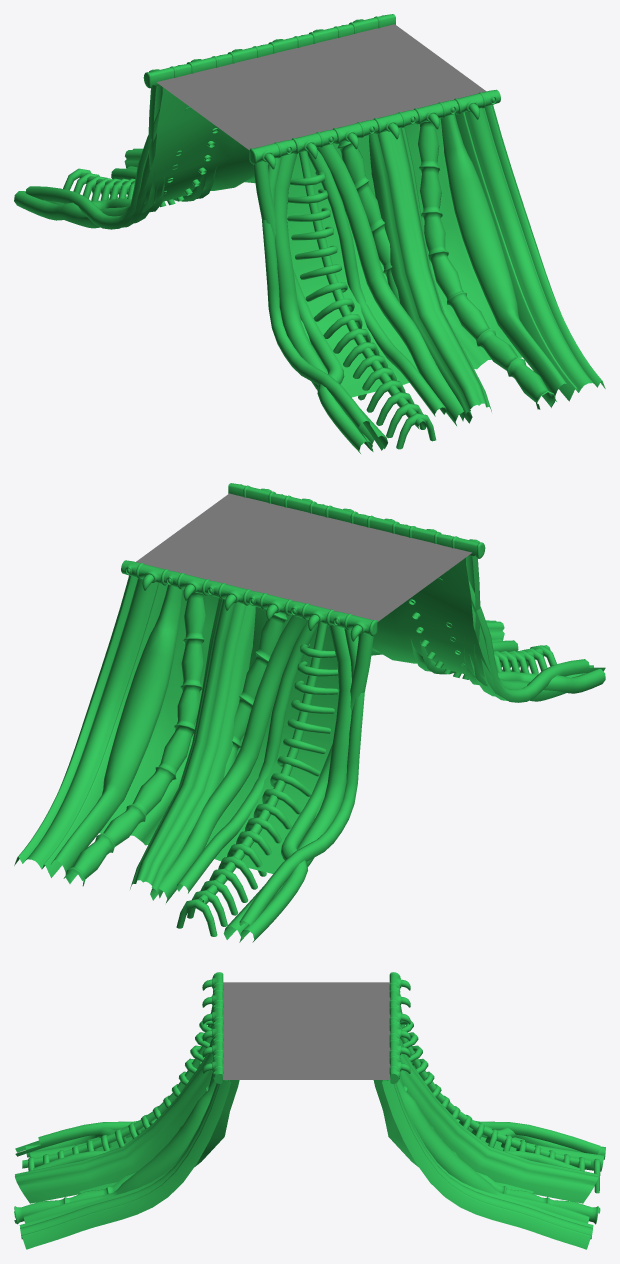
File: Track_alien_07.fbx
3 views of the same model, one above another, from view 1: azimuth 30°, elevation 25°; view 2: azimuth 150°, elevation 25°; view 3: azimuth 270°, elevation 25° (orthographic). The views are drawn at different scales.
Visible parts, largest first — view 1: Side_Rock_007, Road_007; view 2: Side_Rock_007, Road_007; view 3: Side_Rock_007, Road_007.
Boxes of the visible parts, x1,y1,x2,y2 form: Side_Rock_007: (14, 14, 605, 453); Road_007: (156, 24, 486, 150); Side_Rock_007: (14, 483, 605, 942); Road_007: (136, 493, 471, 621); Side_Rock_007: (14, 972, 605, 1249); Road_007: (223, 982, 390, 1079).
Size of what is drawn, in the model's own units: 3340 by 7697 by 2752.
